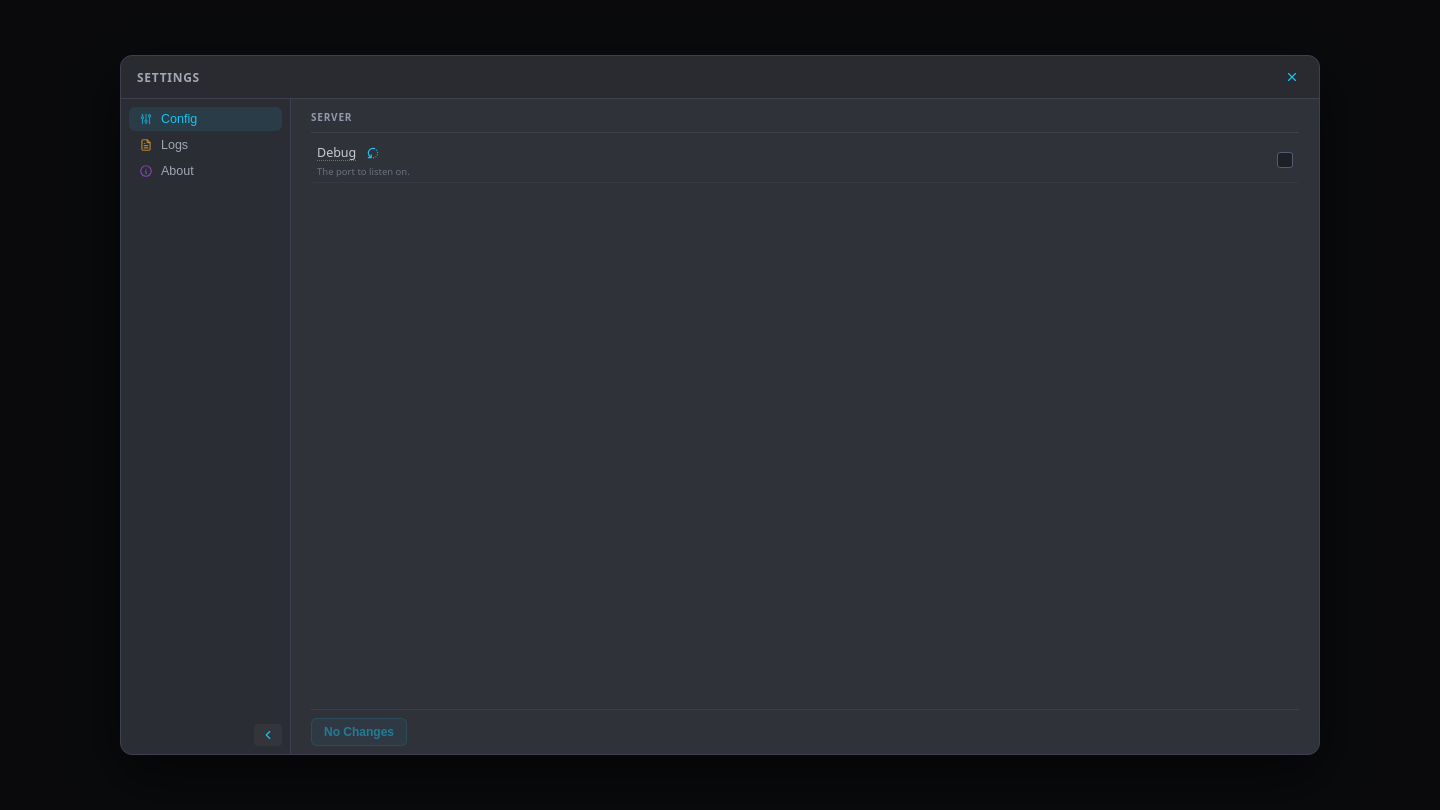
ConfigTab › renders a bool control as a checkbox
Expected: the text "Debug" is shown, [317, 145, 356, 161]
Click the checkbox at (1285, 160), box [1277, 152, 1293, 168]
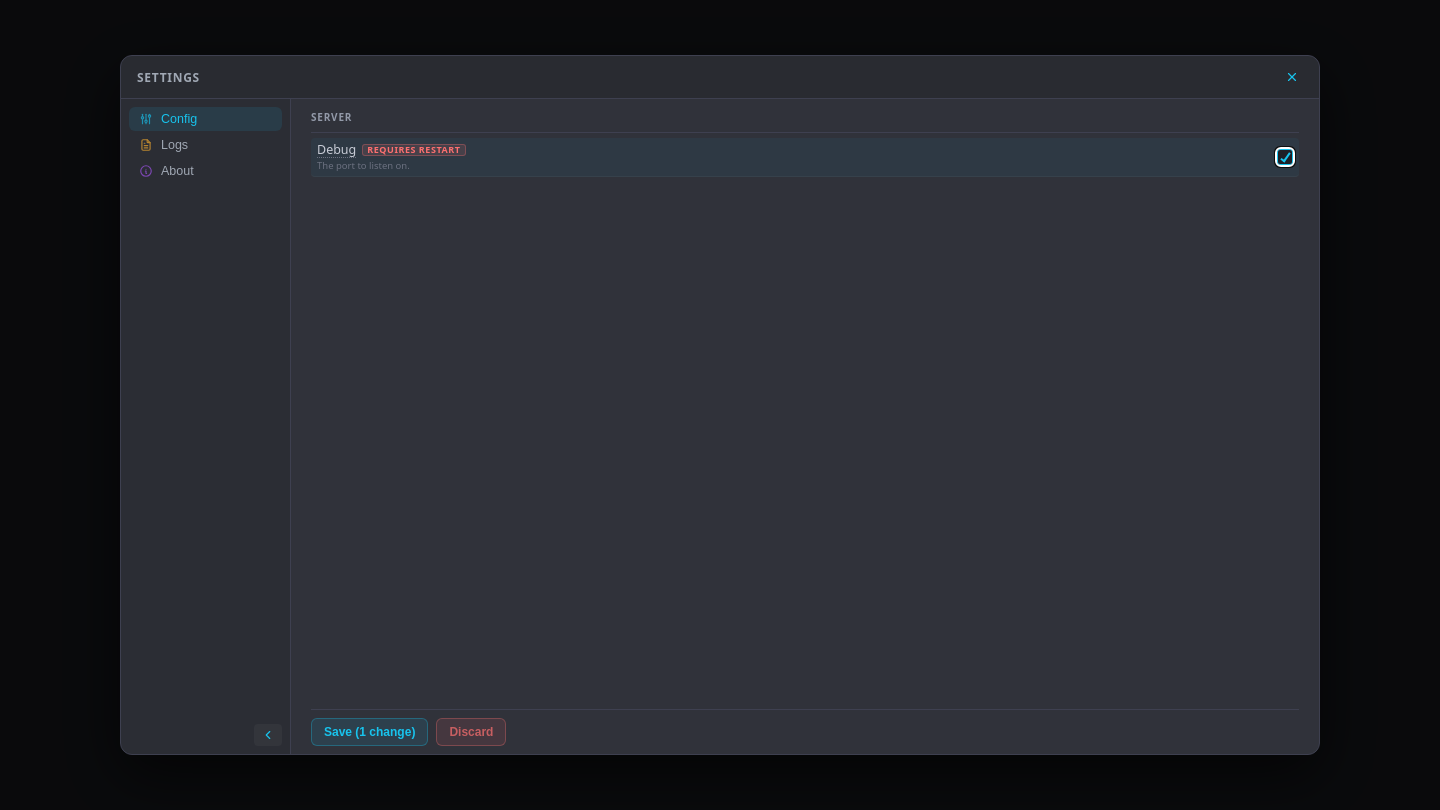
Expected: the button "Save (1 change)" is shown, [311, 718, 428, 746]
